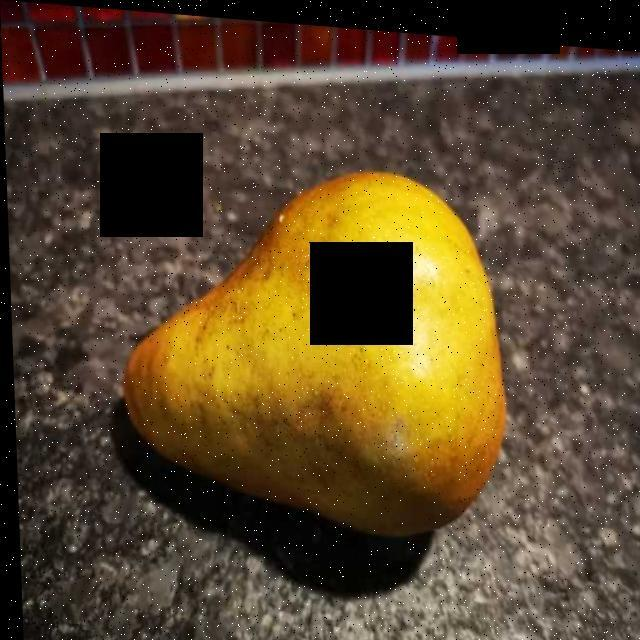pear: (120, 169, 497, 525)
